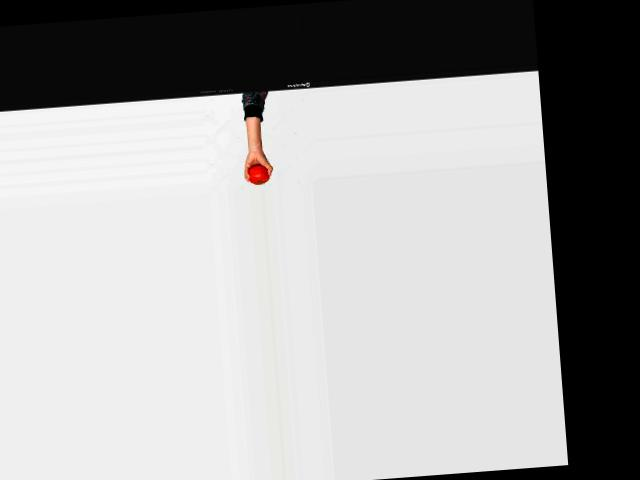tomato: (247, 163, 269, 185)
